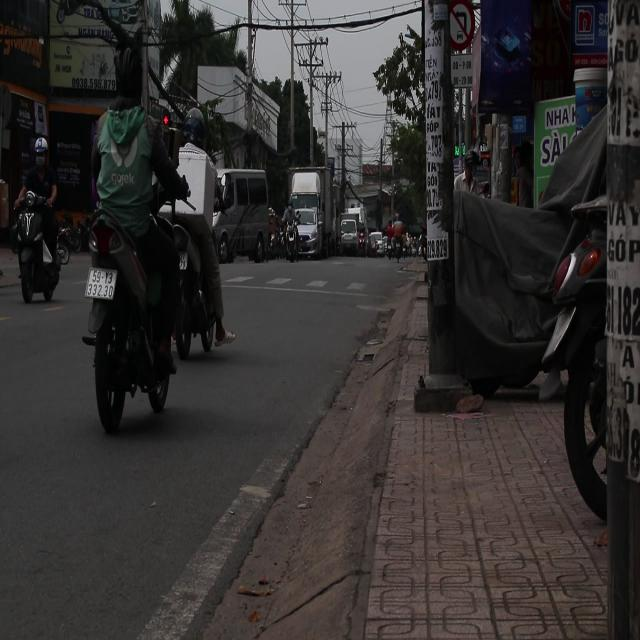car: (339, 216, 370, 256), (368, 231, 388, 257)
motorbike: (83, 191, 181, 429), (166, 198, 224, 374), (0, 181, 68, 327)
truck: (213, 169, 276, 264), (285, 170, 327, 262)
